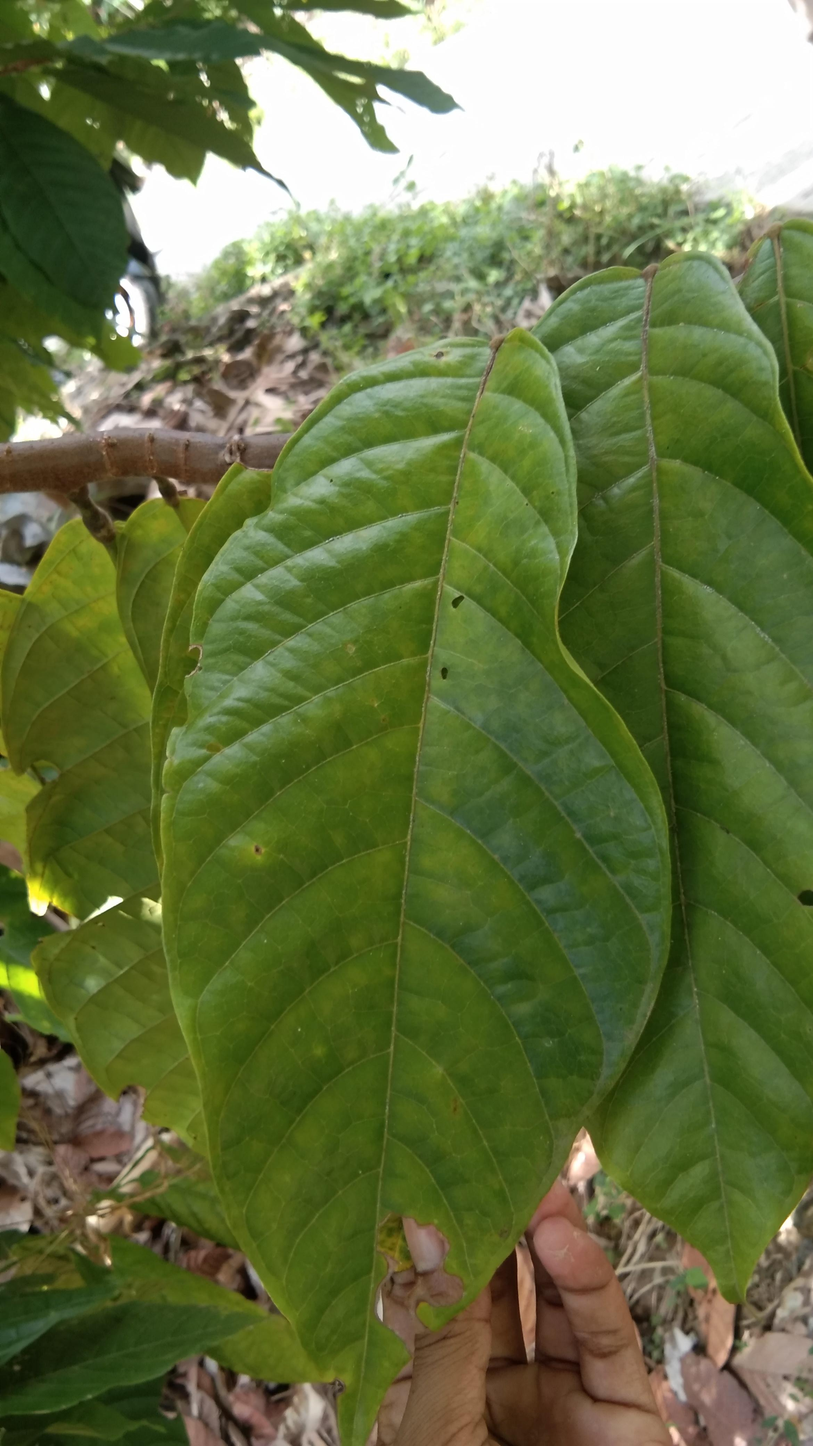deficiencia_potasio: (131, 303, 715, 1446)
